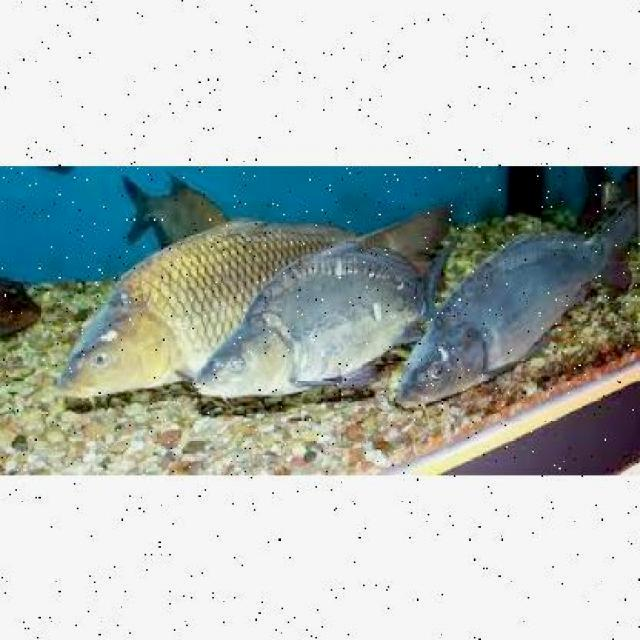ikan-mas: (61, 213, 352, 390), (400, 228, 612, 404), (191, 246, 434, 394)
